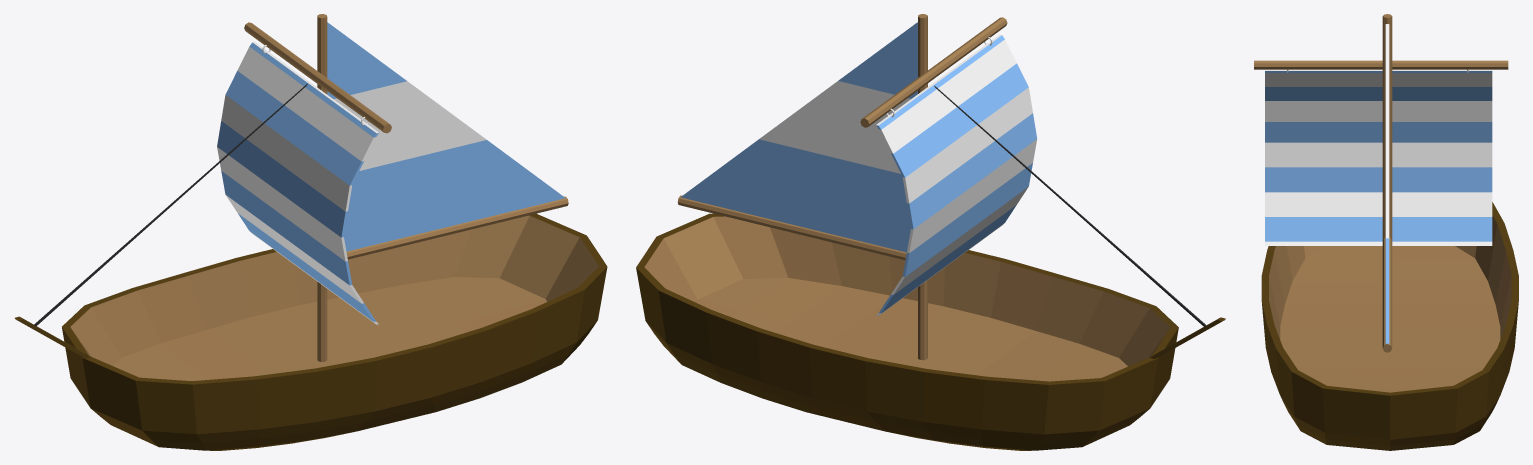
Rendered from Boat_A8.fbx.
3 renders of one model, left to right at view 1: azimuth 30°, elevation 25°; view 2: azimuth 150°, elevation 25°; view 3: azimuth 270°, elevation 25°, orthographic. The views are drawn at different scales.
Parts seen in each view (by area): view 1: Boat_A8; view 2: Boat_A8; view 3: Boat_A8.
Part boxes in pixels (<box>): Boat_A8: <box>15,14,607,450</box>; Boat_A8: <box>636,14,1225,450</box>; Boat_A8: <box>1254,14,1518,450</box>.
Size of the model in its own units: 7.17 by 4.49 by 3.15.
